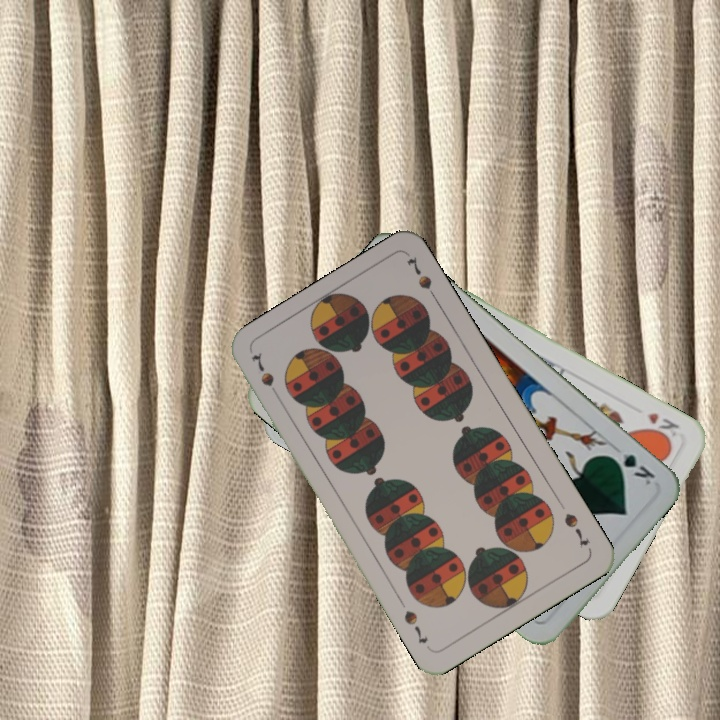GK: (604, 449, 658, 488)
HK: (642, 408, 682, 444)
S7: (247, 348, 282, 404), (560, 509, 592, 551)
